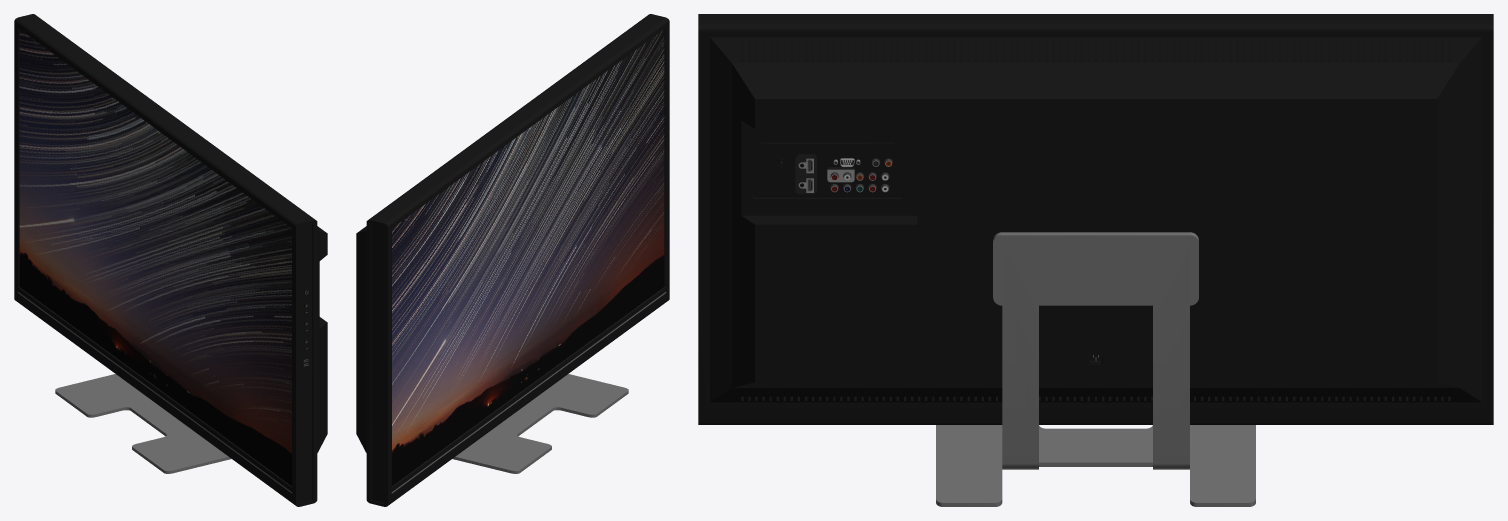
3 views of the same model, side by side, from view 1: azimuth 30°, elevation 25°; view 2: azimuth 150°, elevation 25°; view 3: azimuth 270°, elevation 25° (orthographic). The views are drawn at different scales.
Visible parts, largest first — view 1: SketchUp (×7); view 2: SketchUp (×7); view 3: SketchUp (×6).
Part boxes in pixels (x1,y1,x2,y2): SketchUp (×7): (14,14,327,506); SketchUp (×7): (356,14,669,506); SketchUp (×6): (698,14,1493,506).
Bounding box in the file's own units: 13.39 × 44.5 × 26.25.
Materials: 14 (1 with a texture image).
